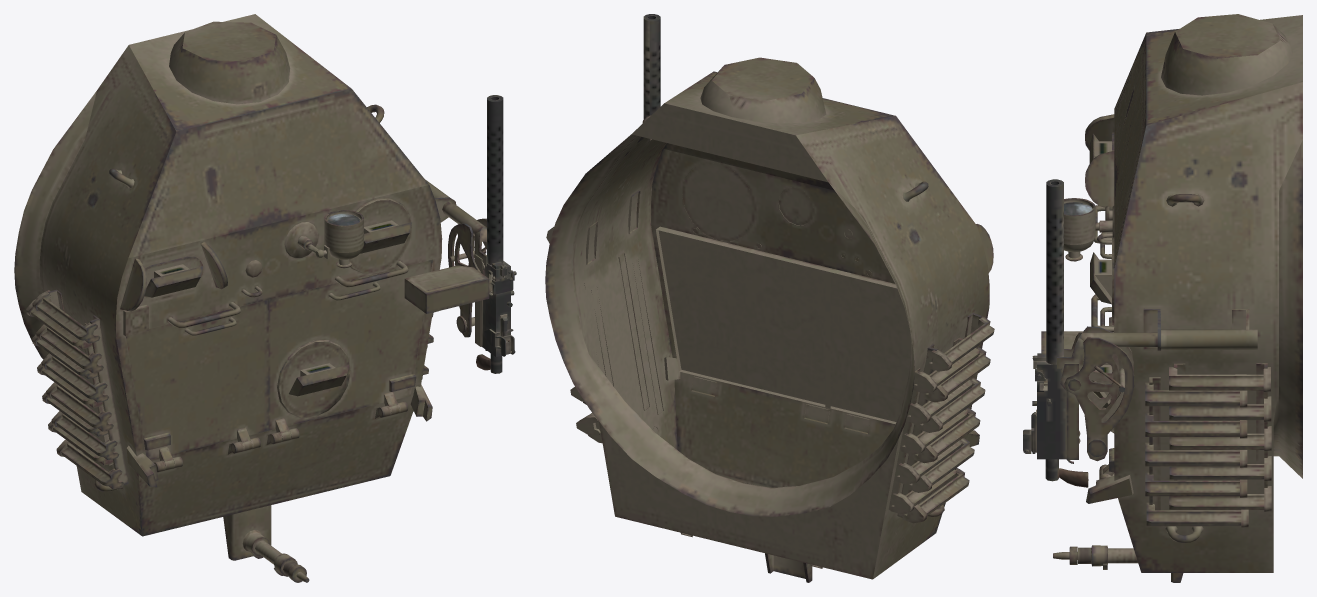
File: Turret_02.glb
3 renders of one model, left to right at view 1: azimuth 30°, elevation 25°; view 2: azimuth 150°, elevation 25°; view 3: azimuth 270°, elevation 25°, orthographic. The views are drawn at different scales.
Visible parts, largest first — view 1: set_0_group_0; view 2: set_0_group_0; view 3: set_0_group_0.
Part boxes in pixels (x1,y1,x2,y2): set_0_group_0: (14,14,516,582); set_0_group_0: (545,14,994,582); set_0_group_0: (1023,14,1302,582).
Bounding box in the file's own units: 1.54 × 1.84 × 0.8696.
Materials: 1 (1 with a texture image).
